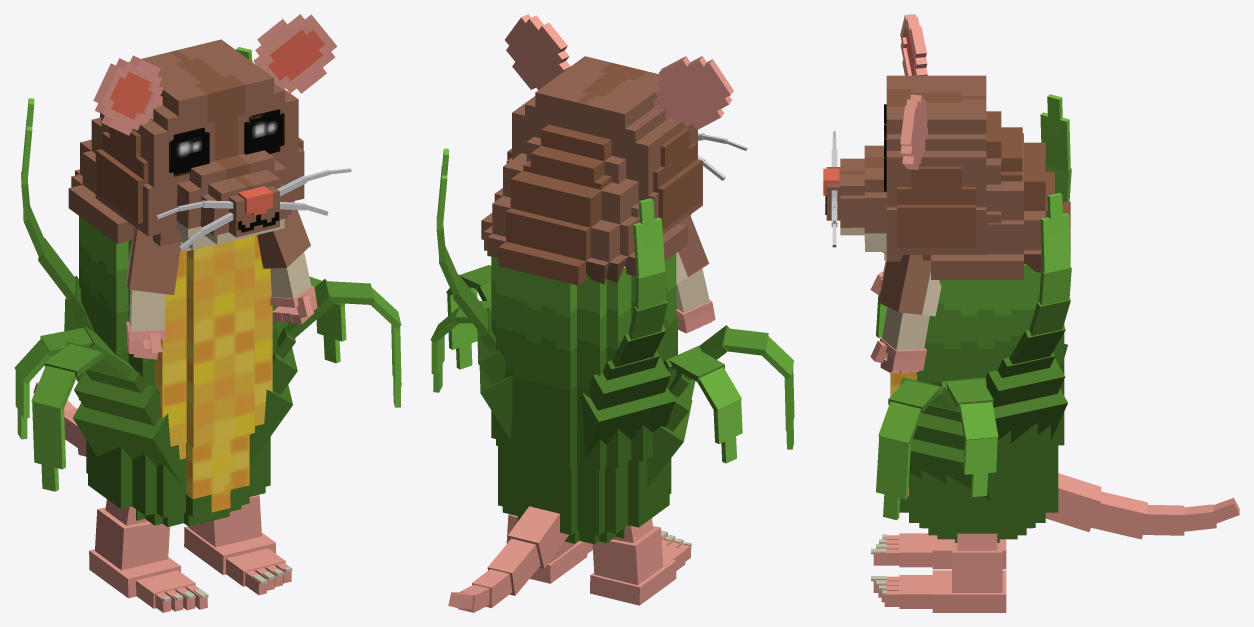
File: pipiCorni.fbx
3 renders of one model, left to right at view 1: azimuth 30°, elevation 25°; view 2: azimuth 150°, elevation 25°; view 3: azimuth 270°, elevation 25°, orthographic. The views are drawn at different scales.
Parts seen in each view (by area): view 1: pipiCorni; view 2: pipiCorni; view 3: pipiCorni.
Part boxes in pixels (left/top/right/bottom): pipiCorni: left=14, top=14, right=401, bottom=612; pipiCorni: left=430, top=14, right=794, bottom=612; pipiCorni: left=823, top=14, right=1239, bottom=612.
Size of the model in its own units: 427 by 612 by 444.
